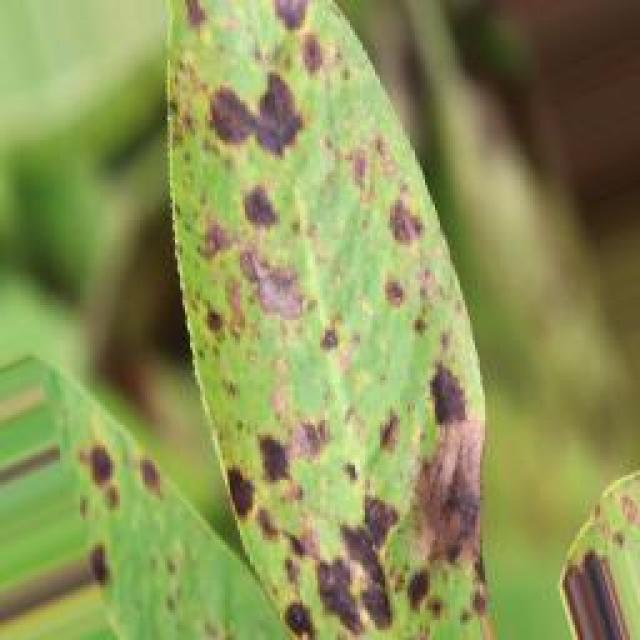Yellowish: (148, 0, 525, 640)
